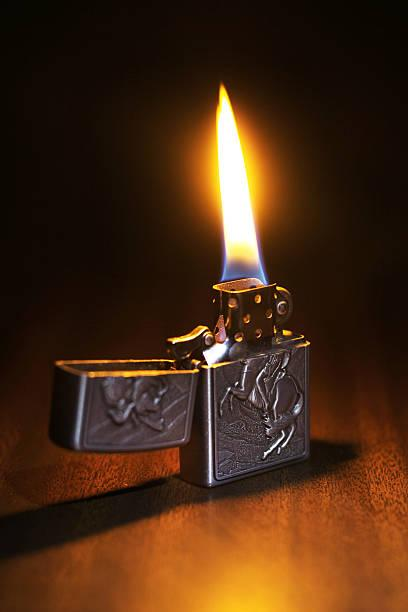Fire: (209, 83, 266, 281)
